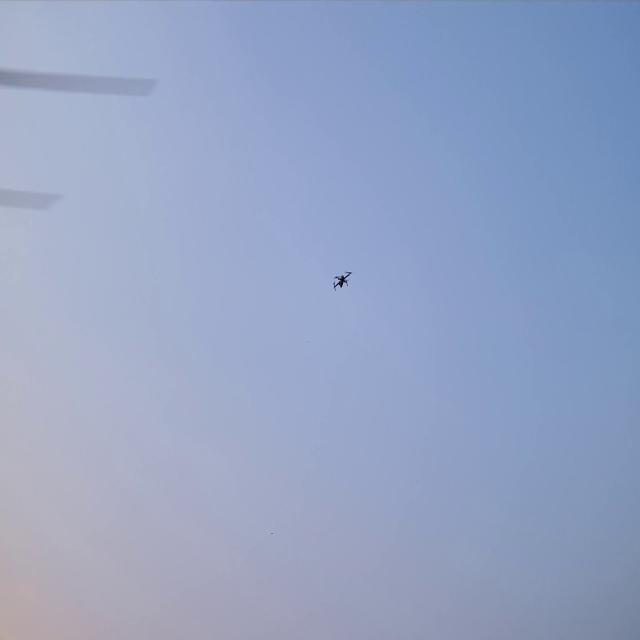UAV: (333, 271, 352, 290)
